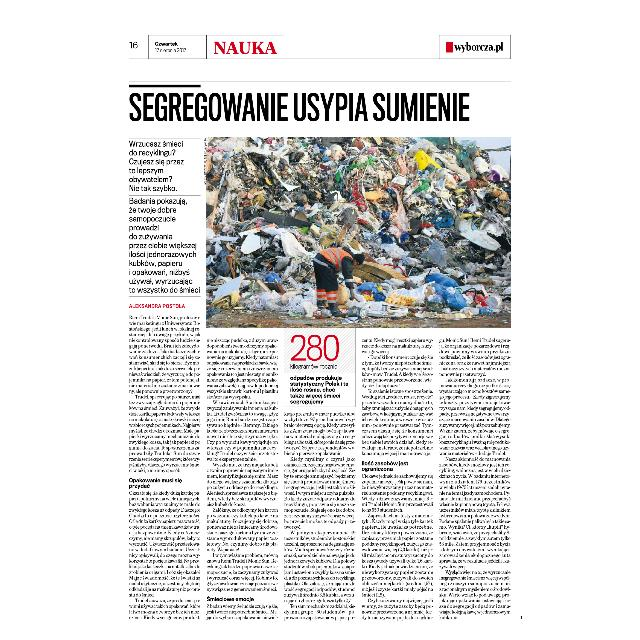article: (128, 82, 514, 624)
